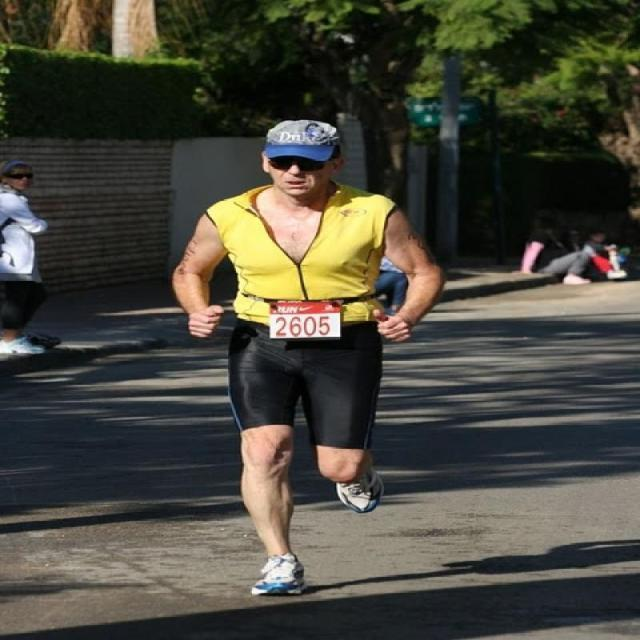dorsal: (262, 298, 358, 344)
